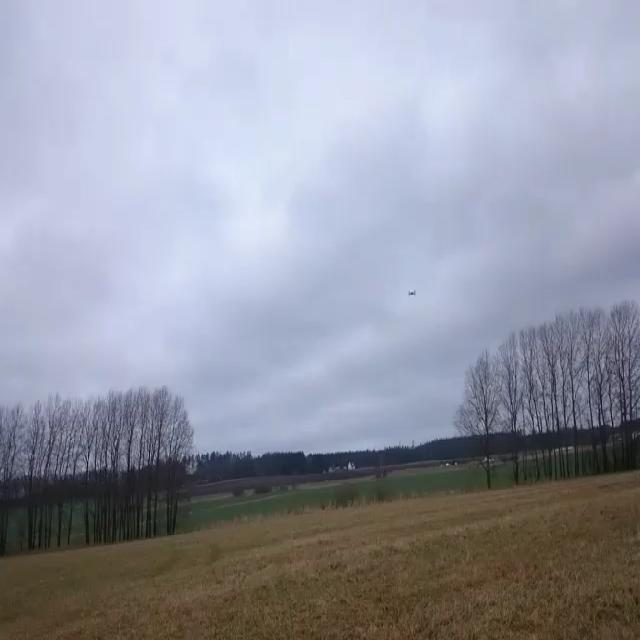Drone: (402, 280, 420, 306)
